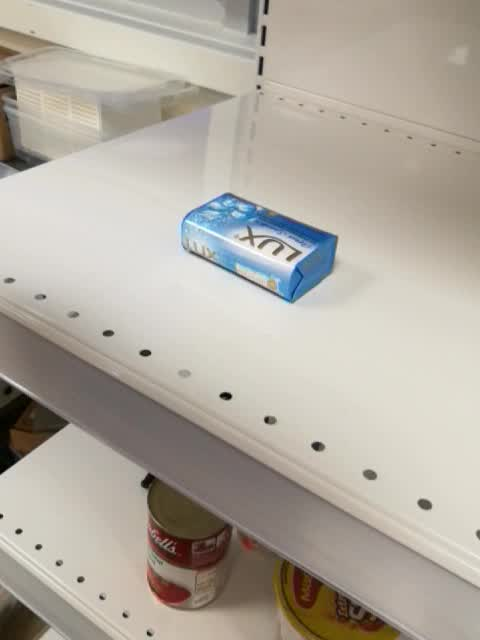soap: (179, 191, 340, 305)
